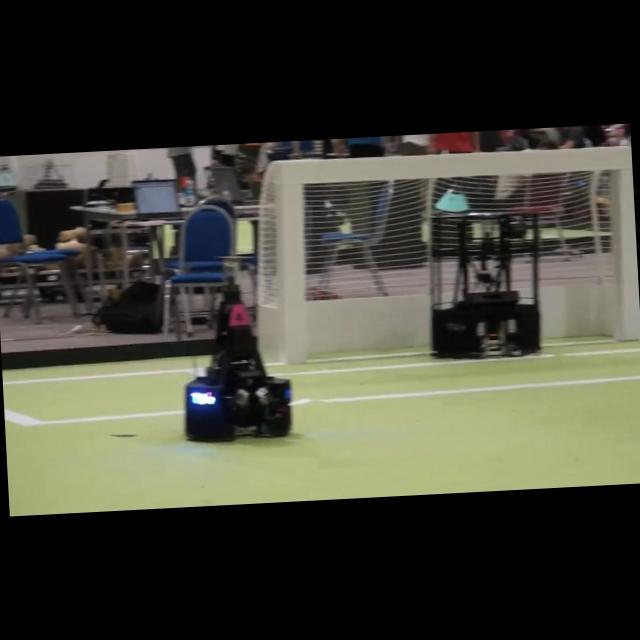goal: (604, 148, 640, 339), (274, 163, 308, 363)
robot: (185, 276, 292, 441), (430, 211, 541, 358)
